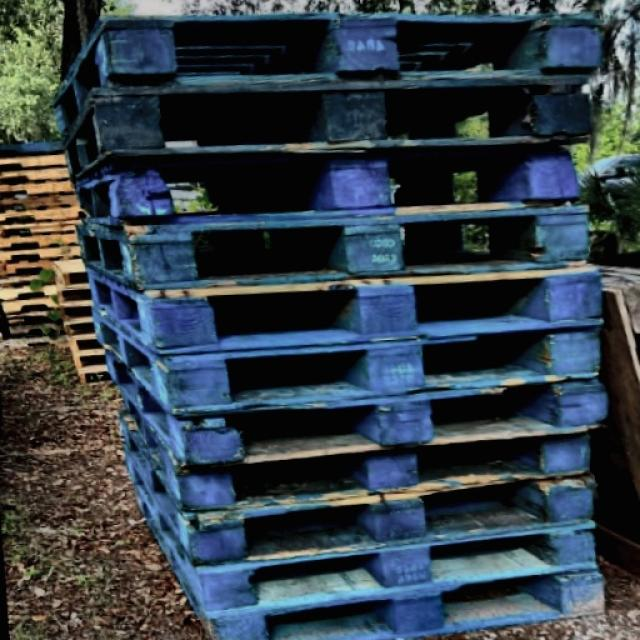non-igps: (90, 0, 625, 102), (101, 136, 586, 247), (167, 319, 613, 439), (179, 401, 606, 526), (85, 68, 606, 169), (178, 373, 615, 490), (183, 466, 607, 586), (149, 265, 614, 367), (188, 508, 606, 620), (131, 206, 600, 302), (207, 565, 624, 640), (587, 250, 640, 602), (0, 241, 95, 270), (0, 204, 99, 231), (0, 190, 90, 216), (0, 226, 83, 254), (0, 216, 89, 242), (44, 255, 102, 290), (0, 177, 86, 200), (0, 163, 77, 188), (0, 291, 65, 319), (0, 151, 74, 174), (2, 302, 66, 328), (0, 255, 58, 283), (0, 136, 68, 159), (52, 273, 96, 306), (7, 318, 65, 343), (0, 281, 64, 303), (0, 269, 59, 290), (54, 303, 102, 323), (76, 370, 118, 392), (65, 336, 111, 356), (68, 354, 112, 371), (61, 322, 98, 337)
